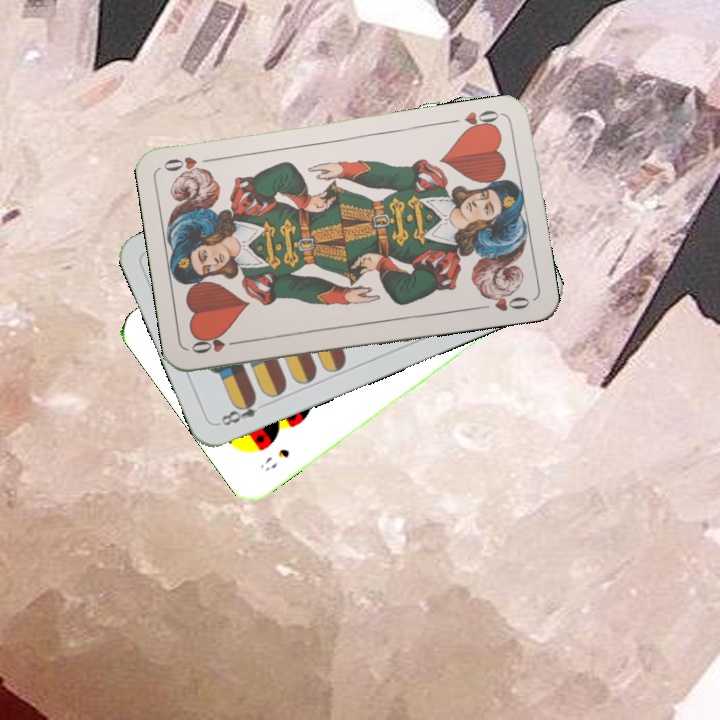E8: (214, 393, 260, 429)
HO: (187, 332, 246, 357), (458, 106, 505, 136)
S8: (256, 444, 293, 474)
